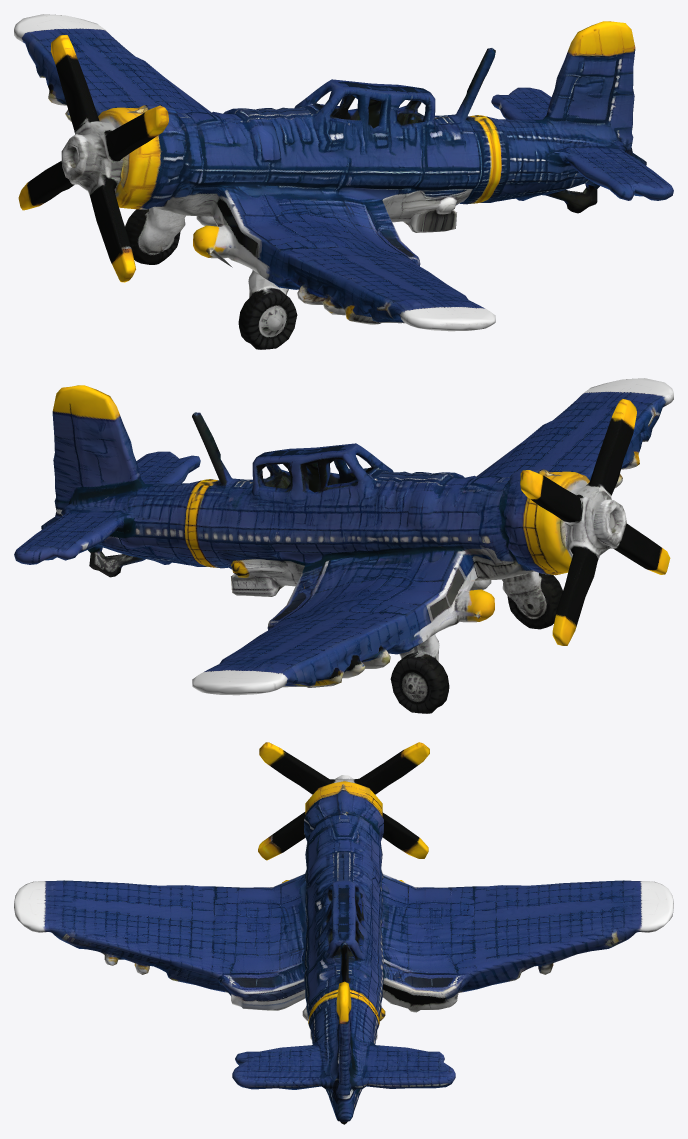
File: player_plane.glb
3 views of the same model, one above another, from view 1: azimuth 30°, elevation 25°; view 2: azimuth 150°, elevation 25°; view 3: azimuth 270°, elevation 25° (orthographic). The views are drawn at different scales.
Visible parts, largest first — view 1: Mesh_0, пропеллер; view 2: Mesh_0, пропеллер; view 3: Mesh_0, пропеллер.
Part boxes in pixels (x1,y1,x2,y2): Mesh_0: [14, 14, 673, 349]; пропеллер: [18, 35, 168, 281]; Mesh_0: [14, 378, 673, 713]; пропеллер: [520, 399, 670, 645]; Mesh_0: [14, 781, 673, 1124]; пропеллер: [259, 742, 429, 858].
Bounding box in the file's own units: 1.51 × 0.6458 × 1.91.
1 material, 1 textured.
